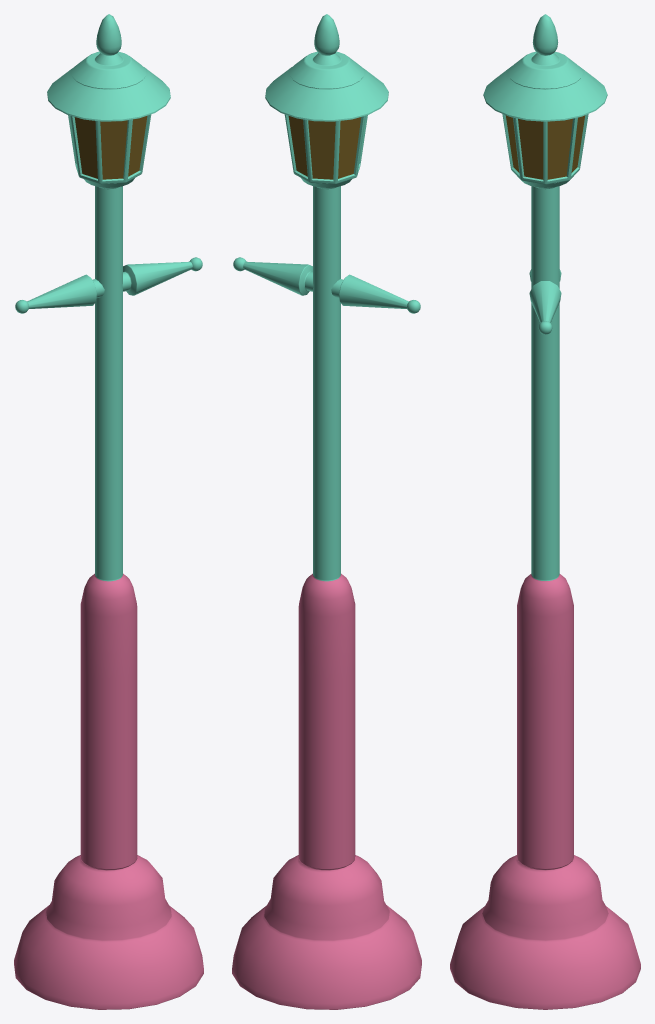
The model's file is 3D Version of Patrycja's lamppost..fbx.
3 renders of one model, left to right at view 1: azimuth 30°, elevation 25°; view 2: azimuth 150°, elevation 25°; view 3: azimuth 270°, elevation 25°, orthographic.
Parts seen in each view (by area): view 1: Lamppost3DVerShape; view 2: Lamppost3DVerShape; view 3: Lamppost3DVerShape.
Part boxes in pixels (x1,y1,x2,y2): Lamppost3DVerShape: [14, 14, 203, 1009]; Lamppost3DVerShape: [232, 14, 421, 1009]; Lamppost3DVerShape: [450, 14, 640, 1009].
Size of the model in its own units: 2.25 by 11.06 by 2.
